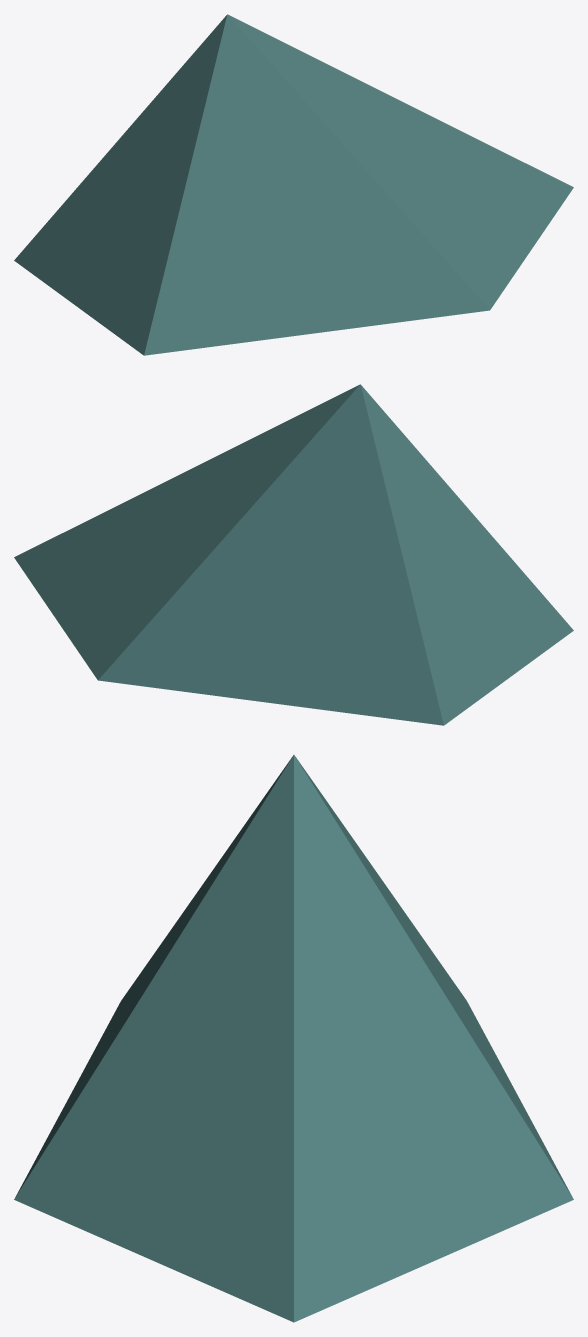
The picture shows the model from 3 angles, top to bottom: view 1: azimuth 30°, elevation 25°; view 2: azimuth 150°, elevation 25°; view 3: azimuth 270°, elevation 25°; orthographic projection. The views are drawn at different scales.
Parts seen in each view (by area): view 1: 原森林散石_1.001; view 2: 原森林散石_1.001; view 3: 原森林散石_1.001.
Part boxes in pixels (left/top/right/bottom): 原森林散石_1.001: left=14, top=14, right=573, bottom=355; 原森林散石_1.001: left=14, top=384, right=573, bottom=725; 原森林散石_1.001: left=14, top=755, right=573, bottom=1322.
Size of the model in its own units: 0.1357 by 0.0675 by 0.0999.
